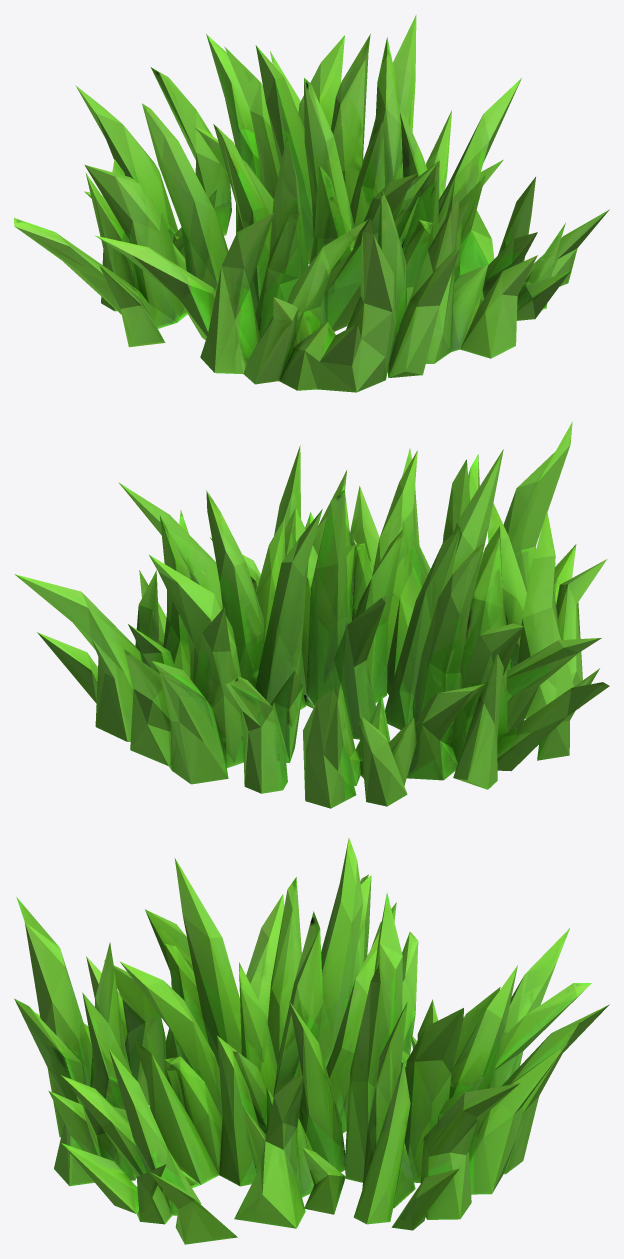
The model's file is Grass1.fbx.
The picture shows the model from 3 angles, top to bottom: view 1: azimuth 30°, elevation 25°; view 2: azimuth 150°, elevation 25°; view 3: azimuth 270°, elevation 25°; orthographic projection. The views are drawn at different scales.
Visible parts, largest first — view 1: temp; view 2: temp; view 3: temp.
Boxes of the visible parts, left/top/right/bottom form: temp: left=14, top=15, right=609, bottom=392; temp: left=14, top=421, right=609, bottom=808; temp: left=14, top=838, right=609, bottom=1244.
Bounding box in the file's own units: 199 × 86.39 × 193.
1 material, 1 textured.
